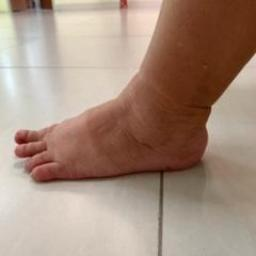Lateral View -Left Foot-: (4, 54, 234, 198)
